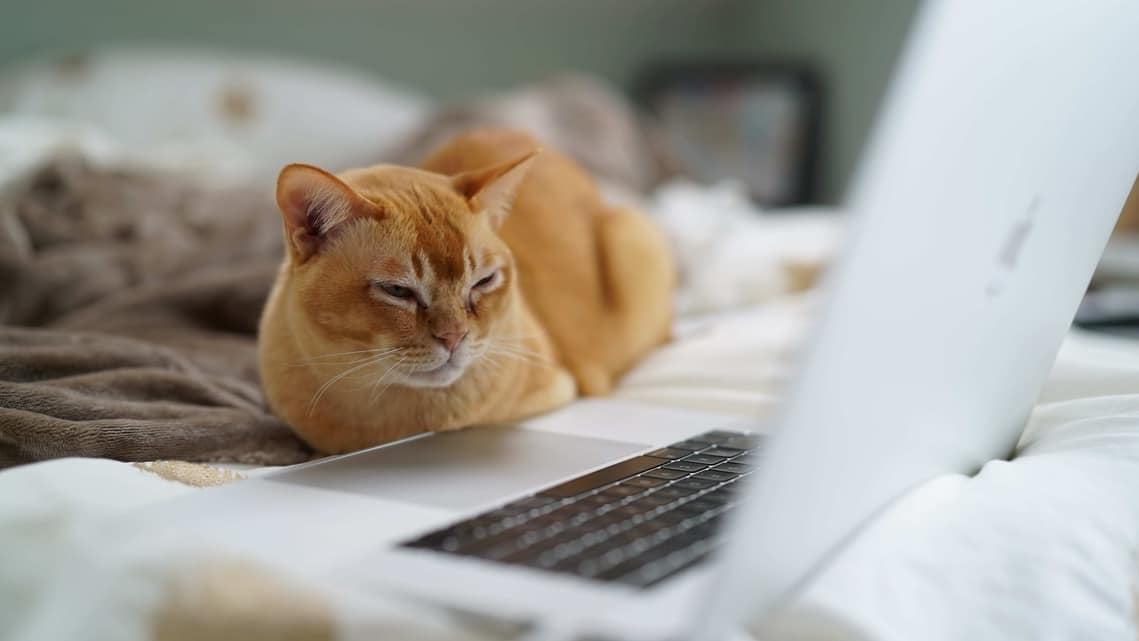cat: (273, 139, 529, 393)
